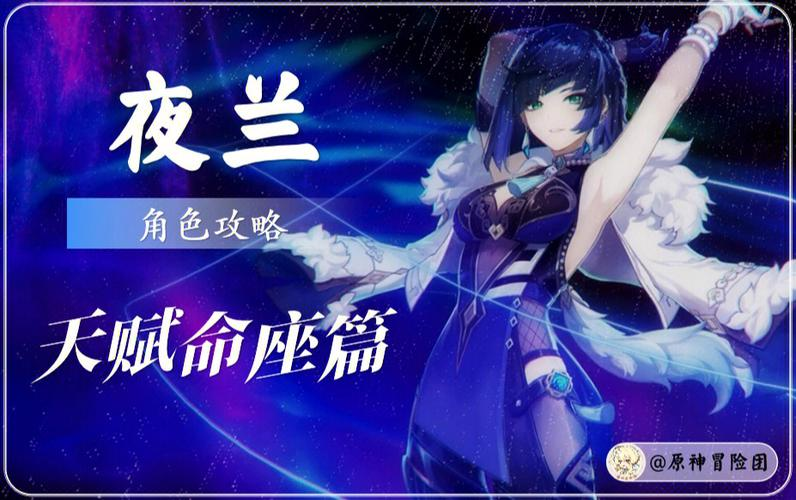夜兰: (394, 1, 786, 500)
